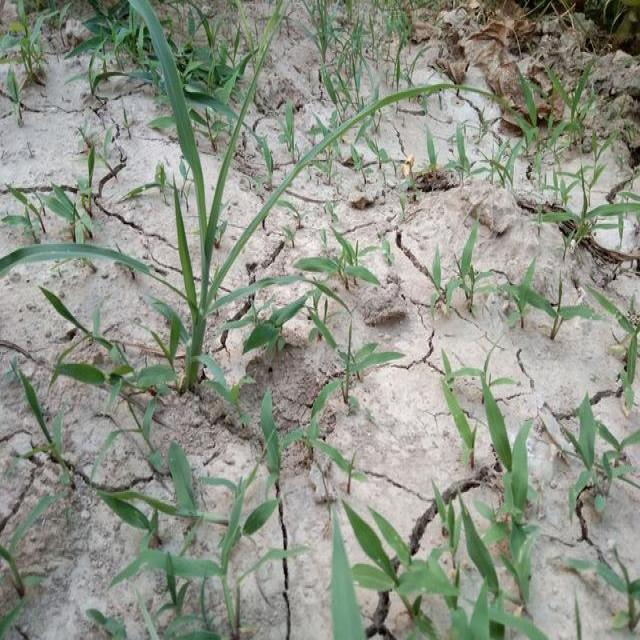weed: (305, 38, 615, 328), (238, 0, 443, 406), (0, 402, 286, 624), (0, 21, 146, 378), (138, 7, 242, 393), (512, 70, 639, 350), (337, 506, 534, 640), (466, 349, 542, 521), (559, 410, 640, 519)
